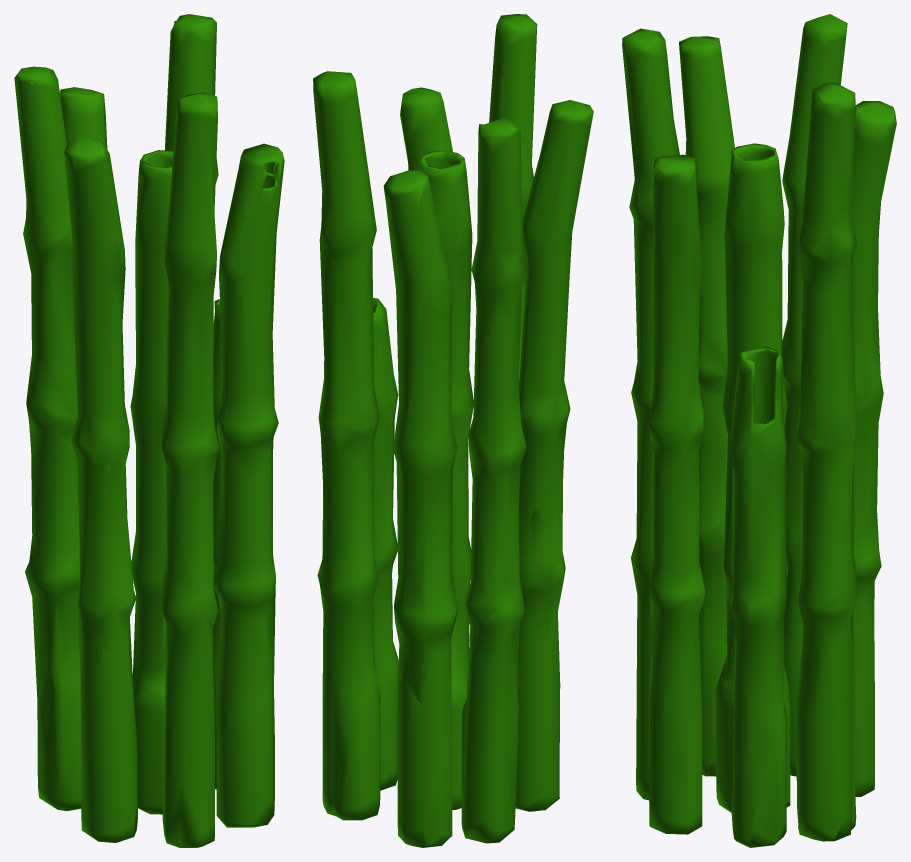
File: gen3d-bamboo-cluster-lod0.glb
The picture shows the model from 3 angles, left to right: view 1: azimuth 30°, elevation 25°; view 2: azimuth 150°, elevation 25°; view 3: azimuth 270°, elevation 25°; orthographic projection. The views are drawn at different scales.
Parts seen in each view (by area): view 1: part_0; view 2: part_0; view 3: part_0.
Boxes of the visible parts, x1,y1,x2,y2 form: part_0: (14, 14, 284, 847); part_0: (313, 14, 593, 847); part_0: (622, 14, 896, 847).
Bounding box in the file's own units: 0.309 × 1 × 0.3288.
